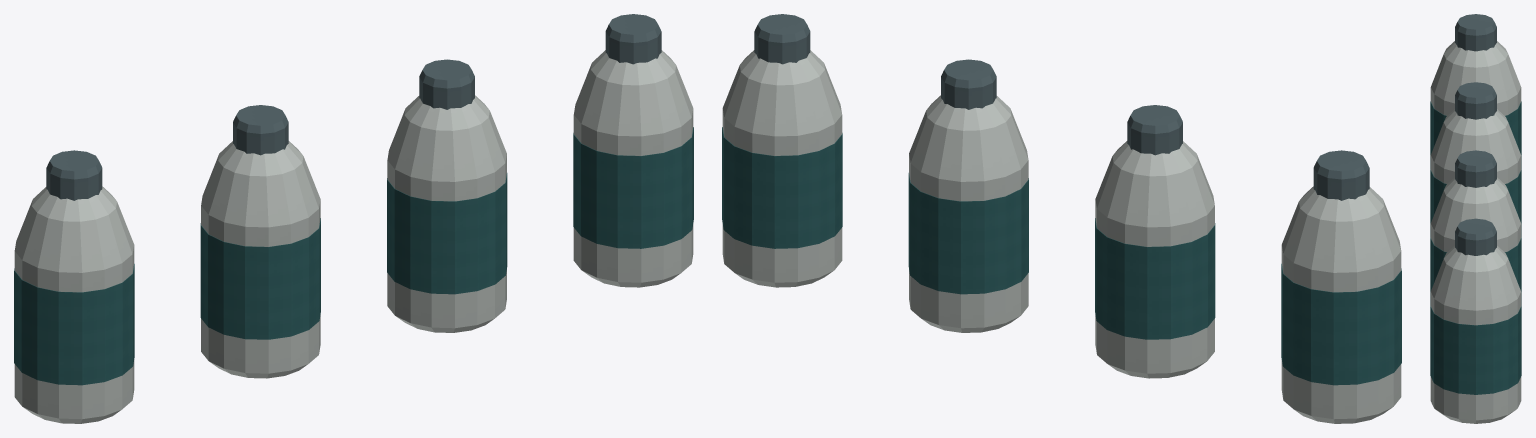
The model's file is D04_PORT_FORWARD_COMMONS_STOCK_r001.glb.
3 views of the same model, side by side, from view 1: azimuth 30°, elevation 25°; view 2: azimuth 150°, elevation 25°; view 3: azimuth 270°, elevation 25° (orthographic). The views are drawn at different scales.
Visible parts, largest first — view 1: D04CS_ClosedStockBottle_0__PRODUCT_BottleBody, D04CS_ClosedStockBottle_3__PRODUCT_BottleBody, D04CS_ClosedStockBottle_2__PRODUCT_BottleBody, D04CS_ClosedStockBottle_1__PRODUCT_BottleBody, D04CS_ClosedStockBottle_2__PRODUCT_LabelBand, D04CS_ClosedStockBottle_0__PRODUCT_LabelBand, D04CS_ClosedStockBottle_3__PRODUCT_LabelBand, D04CS_ClosedStockBottle_1__PRODUCT_LabelBand, D04CS_ClosedStockBottle_0__PRODUCT_ScrewCap, D04CS_ClosedStockBottle_3__PRODUCT_ScrewCap, D04CS_ClosedStockBottle_2__PRODUCT_ScrewCap, D04CS_ClosedStockBottle_1__PRODUCT_ScrewCap; view 2: D04CS_ClosedStockBottle_0__PRODUCT_BottleBody, D04CS_ClosedStockBottle_3__PRODUCT_BottleBody, D04CS_ClosedStockBottle_2__PRODUCT_BottleBody, D04CS_ClosedStockBottle_1__PRODUCT_BottleBody, D04CS_ClosedStockBottle_2__PRODUCT_LabelBand, D04CS_ClosedStockBottle_0__PRODUCT_LabelBand, D04CS_ClosedStockBottle_3__PRODUCT_LabelBand, D04CS_ClosedStockBottle_1__PRODUCT_LabelBand, D04CS_ClosedStockBottle_0__PRODUCT_ScrewCap, D04CS_ClosedStockBottle_3__PRODUCT_ScrewCap, D04CS_ClosedStockBottle_2__PRODUCT_ScrewCap, D04CS_ClosedStockBottle_1__PRODUCT_ScrewCap; view 3: D04CS_ClosedStockBottle_0__PRODUCT_BottleBody, D04CS_ClosedStockBottle_0__PRODUCT_LabelBand, D04CS_ClosedStockBottle_2__PRODUCT_BottleBody, D04CS_ClosedStockBottle_3__PRODUCT_BottleBody, D04CS_ClosedStockBottle_1__PRODUCT_BottleBody, D04CS_ClosedStockBottle_2__PRODUCT_ScrewCap, D04CS_ClosedStockBottle_0__PRODUCT_ScrewCap, D04CS_ClosedStockBottle_3__PRODUCT_ScrewCap, D04CS_ClosedStockBottle_1__PRODUCT_ScrewCap, D04CS_ClosedStockBottle_1__PRODUCT_LabelBand, D04CS_ClosedStockBottle_3__PRODUCT_LabelBand, D04CS_ClosedStockBottle_2__PRODUCT_LabelBand.
Boxes of the visible parts, box(x1,y1,x2,y2) form: D04CS_ClosedStockBottle_0__PRODUCT_BottleBody: box(573, 50, 693, 287); D04CS_ClosedStockBottle_3__PRODUCT_BottleBody: box(14, 186, 134, 423); D04CS_ClosedStockBottle_2__PRODUCT_BottleBody: box(201, 141, 320, 378); D04CS_ClosedStockBottle_1__PRODUCT_BottleBody: box(387, 95, 506, 332); D04CS_ClosedStockBottle_2__PRODUCT_LabelBand: box(200, 218, 320, 339); D04CS_ClosedStockBottle_0__PRODUCT_LabelBand: box(573, 127, 693, 248); D04CS_ClosedStockBottle_3__PRODUCT_LabelBand: box(14, 264, 134, 385); D04CS_ClosedStockBottle_1__PRODUCT_LabelBand: box(387, 173, 507, 294); D04CS_ClosedStockBottle_0__PRODUCT_ScrewCap: box(605, 14, 661, 64); D04CS_ClosedStockBottle_3__PRODUCT_ScrewCap: box(46, 150, 102, 200); D04CS_ClosedStockBottle_2__PRODUCT_ScrewCap: box(233, 105, 288, 155); D04CS_ClosedStockBottle_1__PRODUCT_ScrewCap: box(419, 59, 474, 109); D04CS_ClosedStockBottle_0__PRODUCT_BottleBody: box(722, 50, 842, 287); D04CS_ClosedStockBottle_3__PRODUCT_BottleBody: box(1281, 186, 1401, 423); D04CS_ClosedStockBottle_2__PRODUCT_BottleBody: box(1095, 141, 1214, 378); D04CS_ClosedStockBottle_1__PRODUCT_BottleBody: box(909, 95, 1028, 332); D04CS_ClosedStockBottle_2__PRODUCT_LabelBand: box(1095, 218, 1215, 339); D04CS_ClosedStockBottle_0__PRODUCT_LabelBand: box(722, 127, 842, 248); D04CS_ClosedStockBottle_3__PRODUCT_LabelBand: box(1281, 264, 1401, 385); D04CS_ClosedStockBottle_1__PRODUCT_LabelBand: box(908, 173, 1028, 294); D04CS_ClosedStockBottle_0__PRODUCT_ScrewCap: box(754, 14, 810, 64); D04CS_ClosedStockBottle_3__PRODUCT_ScrewCap: box(1313, 150, 1369, 200); D04CS_ClosedStockBottle_2__PRODUCT_ScrewCap: box(1127, 105, 1182, 155); D04CS_ClosedStockBottle_1__PRODUCT_ScrewCap: box(941, 59, 996, 109); D04CS_ClosedStockBottle_0__PRODUCT_BottleBody: box(1430, 246, 1521, 423); D04CS_ClosedStockBottle_0__PRODUCT_LabelBand: box(1430, 306, 1521, 394); D04CS_ClosedStockBottle_2__PRODUCT_BottleBody: box(1430, 109, 1521, 183); D04CS_ClosedStockBottle_3__PRODUCT_BottleBody: box(1430, 41, 1521, 115); D04CS_ClosedStockBottle_1__PRODUCT_BottleBody: box(1430, 177, 1521, 252); D04CS_ClosedStockBottle_2__PRODUCT_ScrewCap: box(1455, 82, 1496, 119); D04CS_ClosedStockBottle_0__PRODUCT_ScrewCap: box(1455, 218, 1496, 255); D04CS_ClosedStockBottle_3__PRODUCT_ScrewCap: box(1455, 14, 1496, 51); D04CS_ClosedStockBottle_1__PRODUCT_ScrewCap: box(1455, 150, 1496, 187); D04CS_ClosedStockBottle_1__PRODUCT_LabelBand: box(1430, 238, 1521, 305); D04CS_ClosedStockBottle_3__PRODUCT_LabelBand: box(1430, 101, 1521, 169); D04CS_ClosedStockBottle_2__PRODUCT_LabelBand: box(1430, 170, 1521, 237).
Size of the model in its own units: 0.713 by 0.249 by 0.113.
12 materials, 12 textured.
